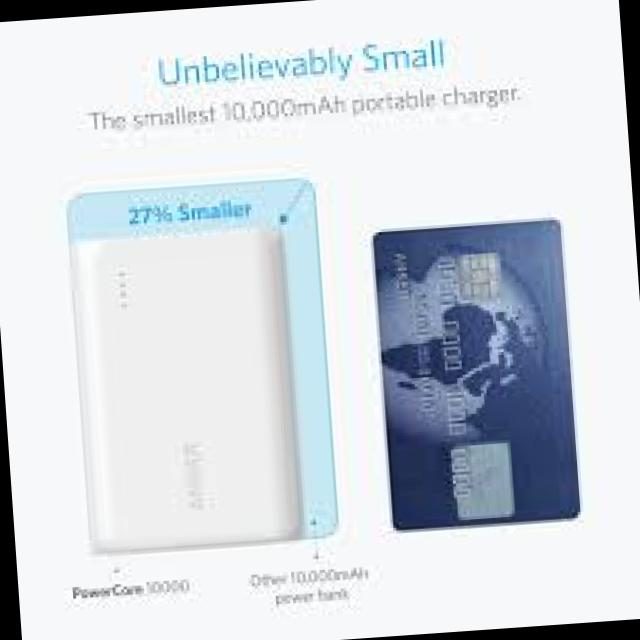power_bank: (70, 222, 308, 556)
